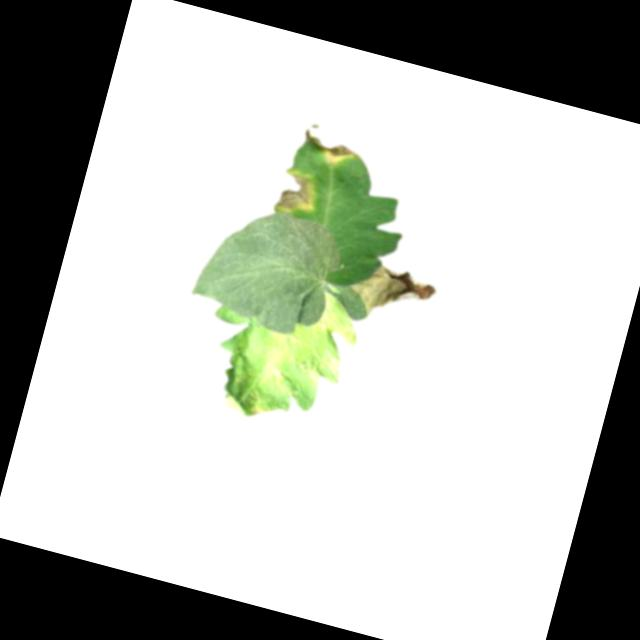Late_blight: (343, 257, 441, 334), (296, 122, 359, 170), (269, 166, 322, 220), (241, 387, 271, 420), (262, 360, 290, 388)
healthy: (186, 194, 345, 342)
